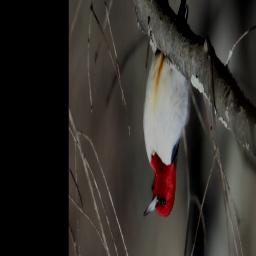Woodpecker: (141, 0, 192, 218)
